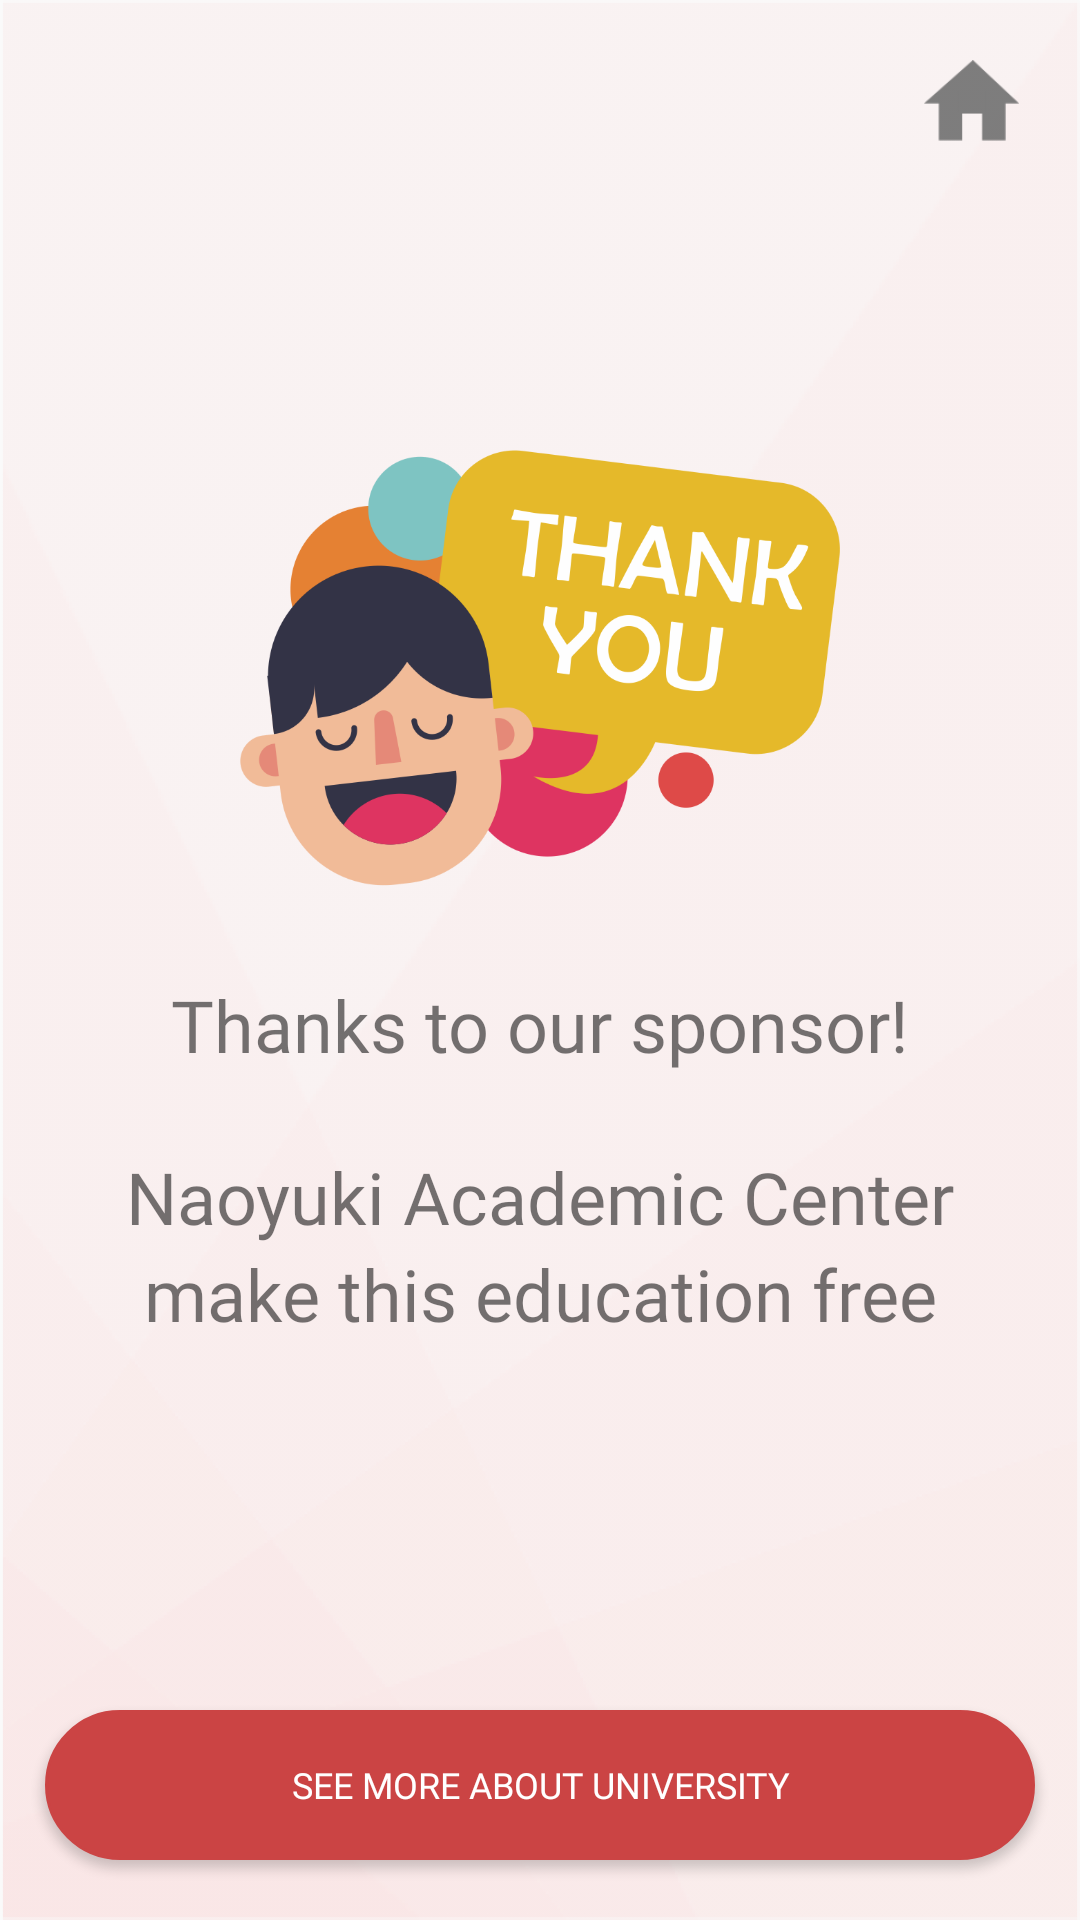

Icons on this 1080 x 1920 Android screen, each with its box as (x1, y1, x2, y2):
home: (924, 60, 1019, 141)
